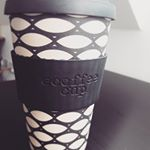cups: (2, 1, 121, 150)
